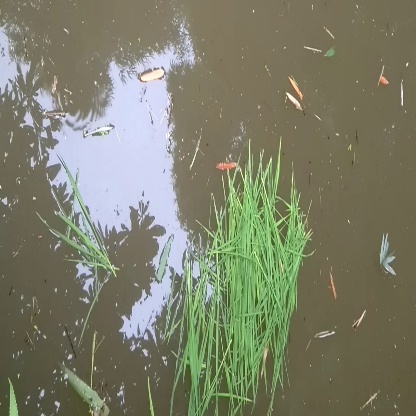grass: (169, 160, 309, 398)
